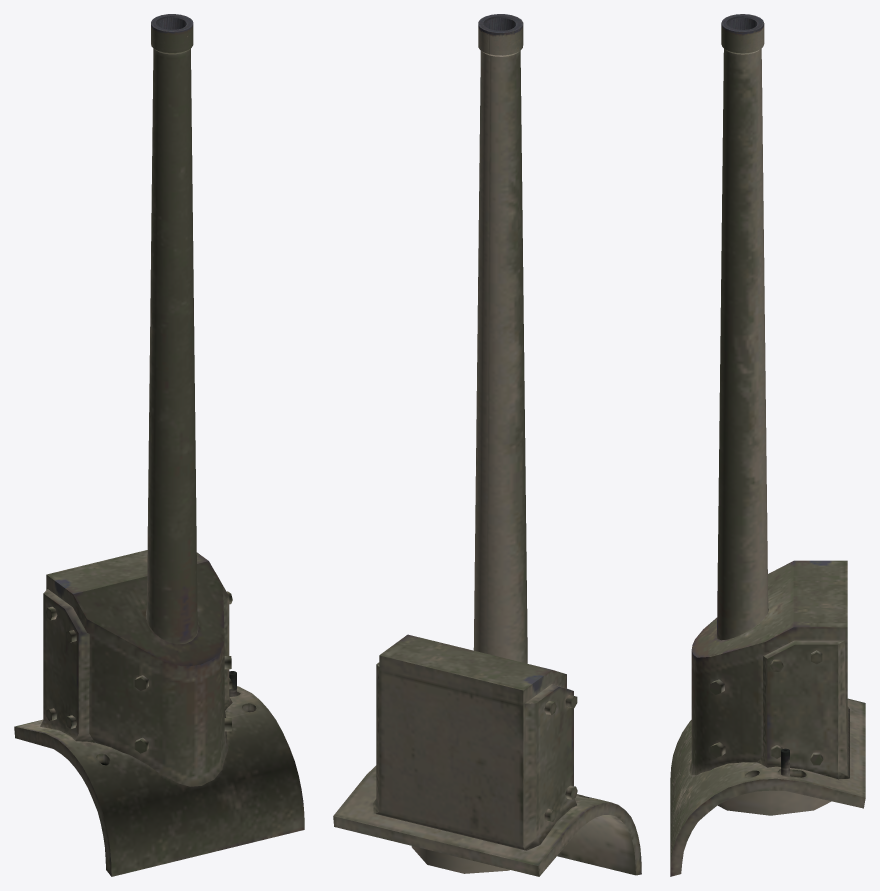
Rendered from Gun_01.glb.
The picture shows the model from 3 angles, left to right: view 1: azimuth 30°, elevation 25°; view 2: azimuth 150°, elevation 25°; view 3: azimuth 270°, elevation 25°; orthographic projection. The views are drawn at different scales.
Visible parts, largest first — view 1: set_0_group_0; view 2: set_0_group_0; view 3: set_0_group_0.
Part boxes in pixels (box(x1,y1,x2,y2)): set_0_group_0: box(14, 14, 304, 876); set_0_group_0: box(333, 14, 641, 876); set_0_group_0: box(670, 14, 865, 876).
Size of the model in its own units: 0.5846 by 2.32 by 0.5106.
Materials: 1 (1 with a texture image).
